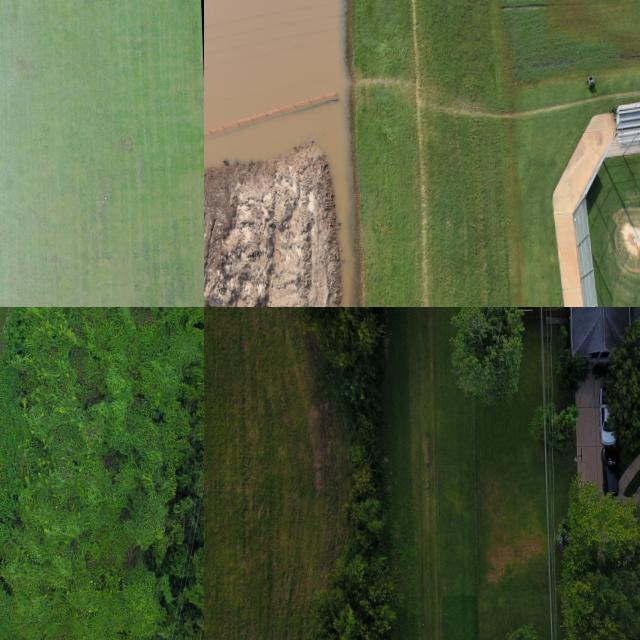fire: (204, 0, 355, 307)
